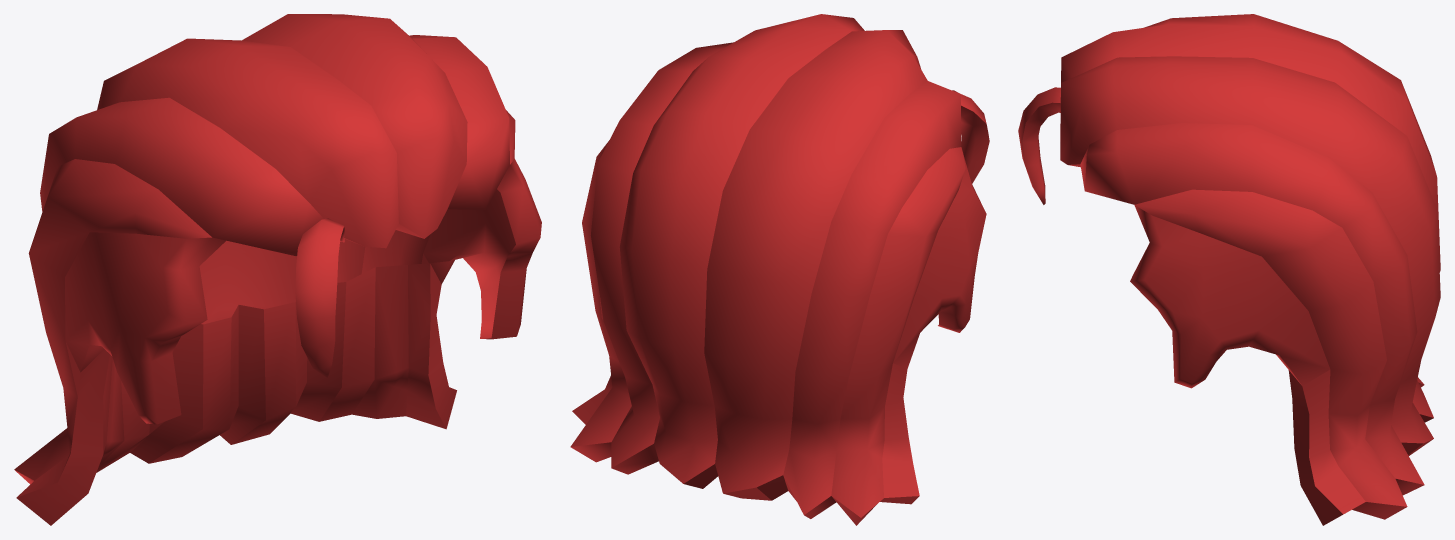
File: Hair_Red_9.fbx
3 views of the same model, side by side, from view 1: azimuth 30°, elevation 25°; view 2: azimuth 150°, elevation 25°; view 3: azimuth 270°, elevation 25° (orthographic). The views are drawn at different scales.
Visible parts, largest first — view 1: Hair_Red_9; view 2: Hair_Red_9; view 3: Hair_Red_9.
Boxes of the visible parts, box(x1,y1,x2,y2) form: Hair_Red_9: box(14, 14, 541, 525); Hair_Red_9: box(570, 14, 989, 525); Hair_Red_9: box(1018, 14, 1440, 525).
Bounding box in the file's own units: 58.08 × 61.17 × 57.42.
